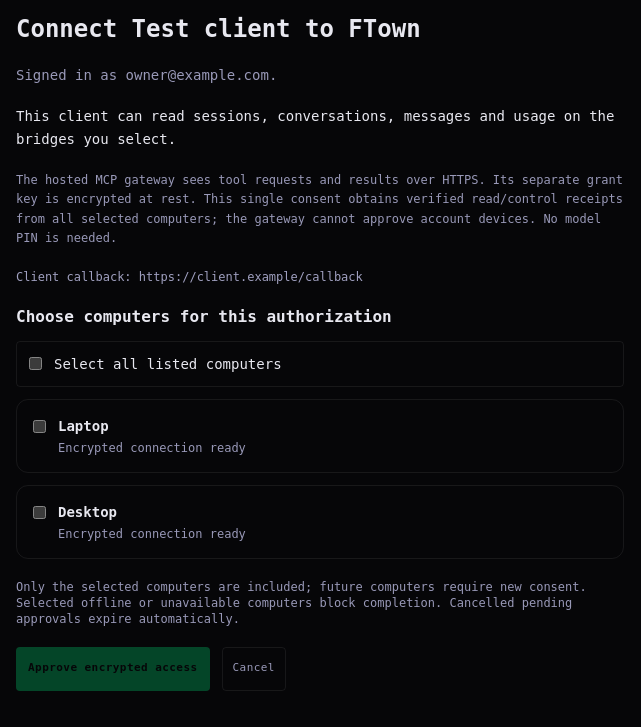
Test: encrypted MCP consent › binds receipts to the exact candidate, permissions and fixed expiry for each selected bridge
The image size is (641, 727).
Click the checkbox labelled "Select all listed computers" at (36, 364), box [29,357,42,370]
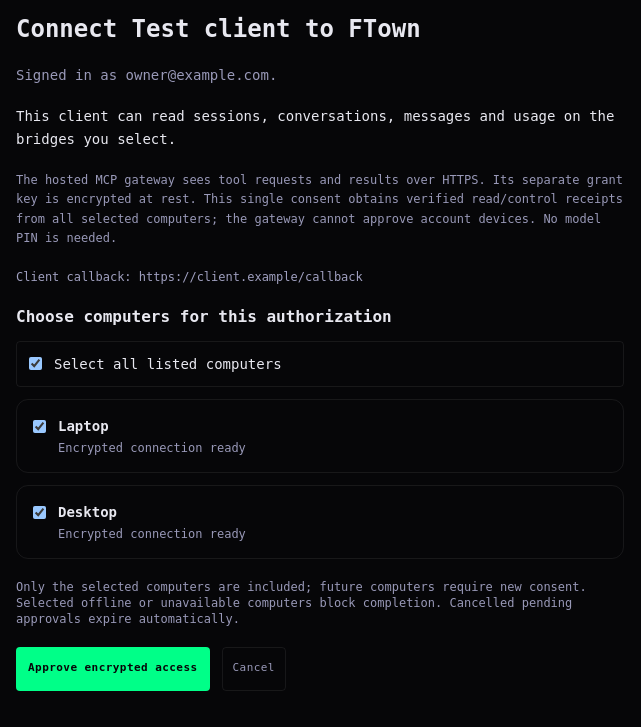
Click the button "Approve encrypted access" at (113, 668), box [16,646,210,690]
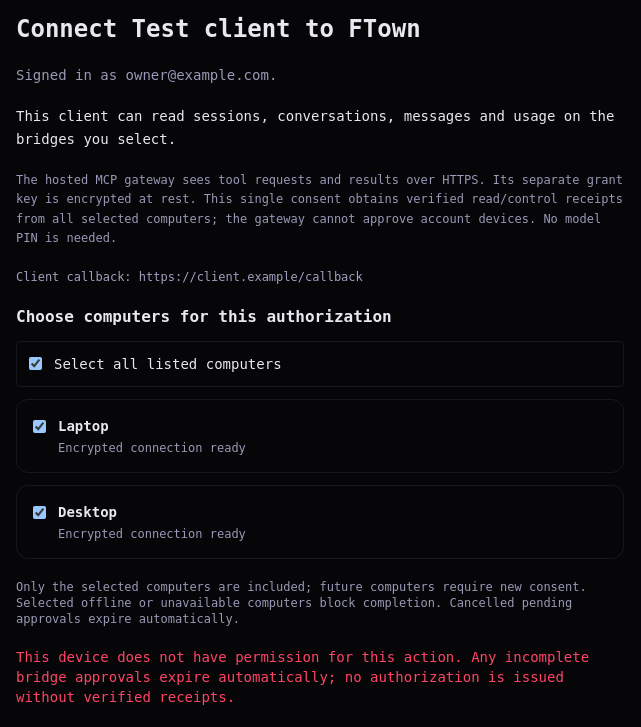
Expected: the message is shown, [16,646,624,706]
